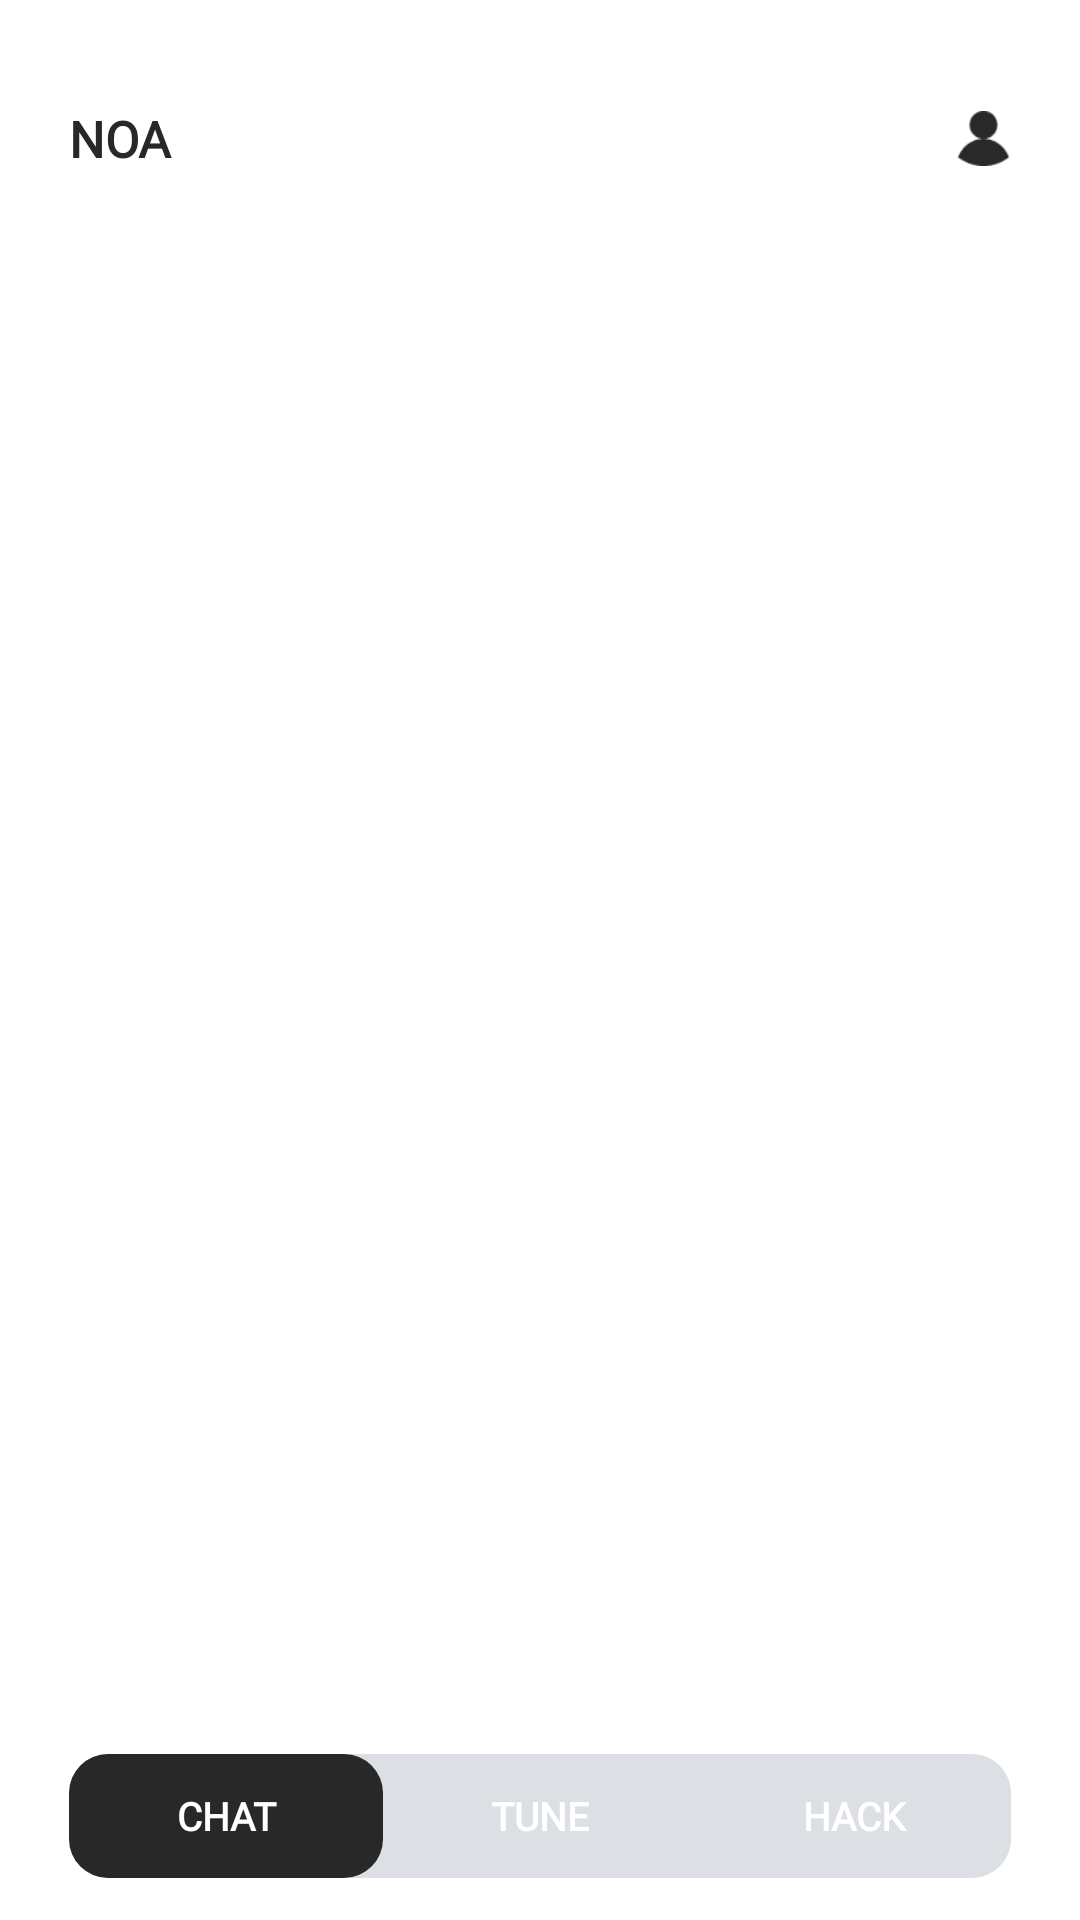

Locate icon controls on the screen. Image size 1080 × 1920, boxes as bbox=(x1, y1, x2, y2).
account: bbox=(957, 111, 1009, 166)
